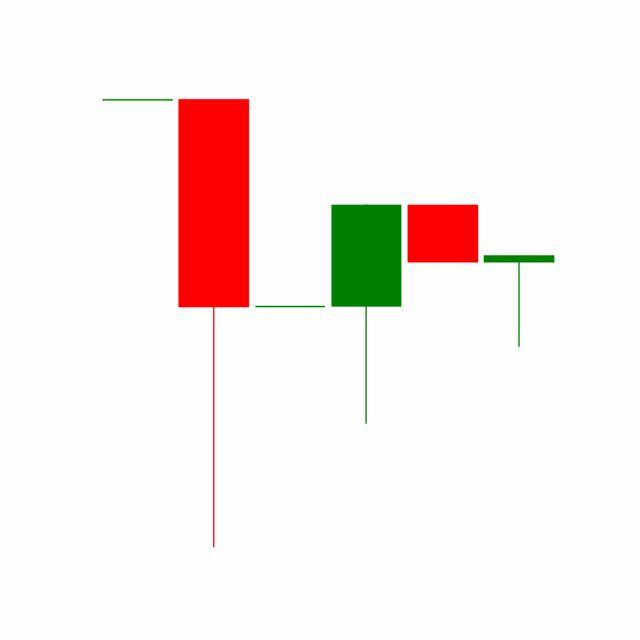Marubozu: (404, 205, 482, 265)
